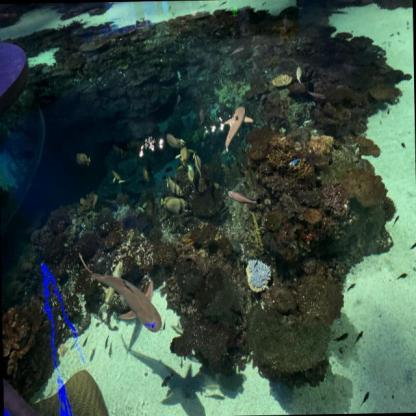fish: (226, 188, 258, 207), (160, 195, 188, 215), (165, 173, 184, 196), (165, 132, 185, 151), (175, 143, 190, 167), (184, 162, 196, 188), (192, 151, 203, 179), (74, 151, 91, 168), (293, 64, 304, 84), (141, 165, 152, 183), (196, 108, 206, 126), (175, 94, 182, 104), (118, 178, 128, 184), (142, 199, 148, 208), (112, 174, 116, 182)
shark: (75, 248, 164, 337), (221, 104, 254, 154)
